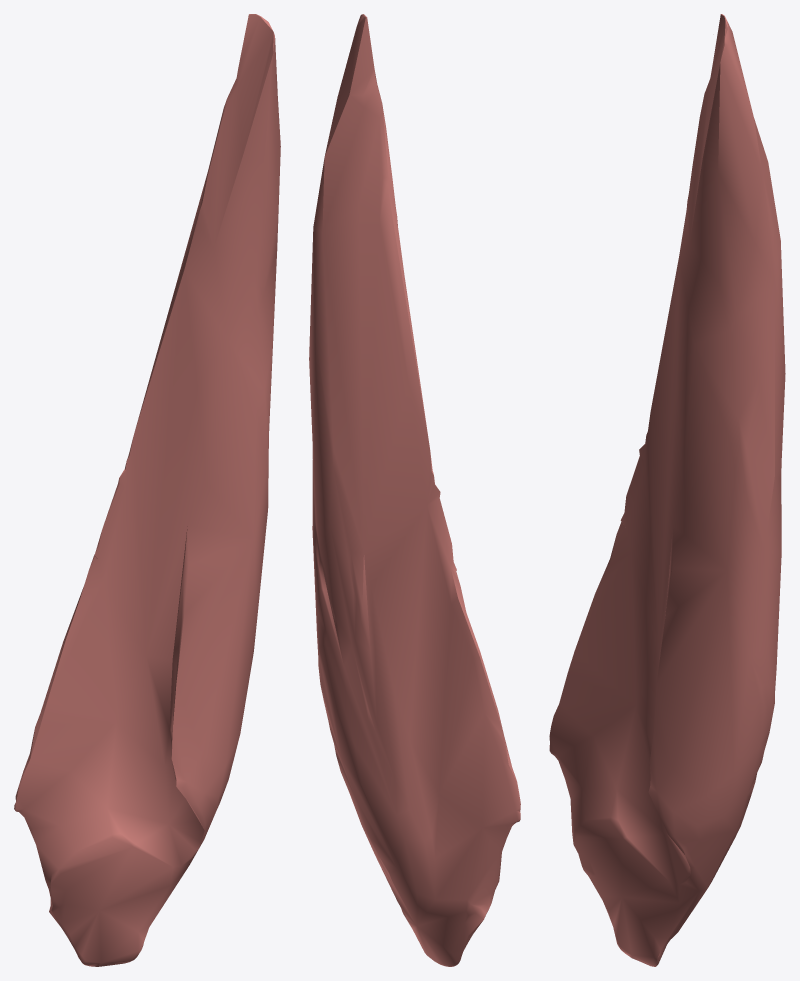
Rendered from fma37695_fj1480.glb.
3 views of the same model, side by side, from view 1: azimuth 30°, elevation 25°; view 2: azimuth 150°, elevation 25°; view 3: azimuth 330°, elevation 25° (orthographic). The views are drawn at different scales.
Parts seen in each view (by area): view 1: FMA37695_FJ1480; view 2: FMA37695_FJ1480; view 3: FMA37695_FJ1480.
Part boxes in pixels (x1,y1,x2,y2): FMA37695_FJ1480: (14,14,280,966); FMA37695_FJ1480: (309,14,520,966); FMA37695_FJ1480: (549,14,785,966).
Size of the model in its own units: 0.0596 by 0.2267 by 0.0256.
